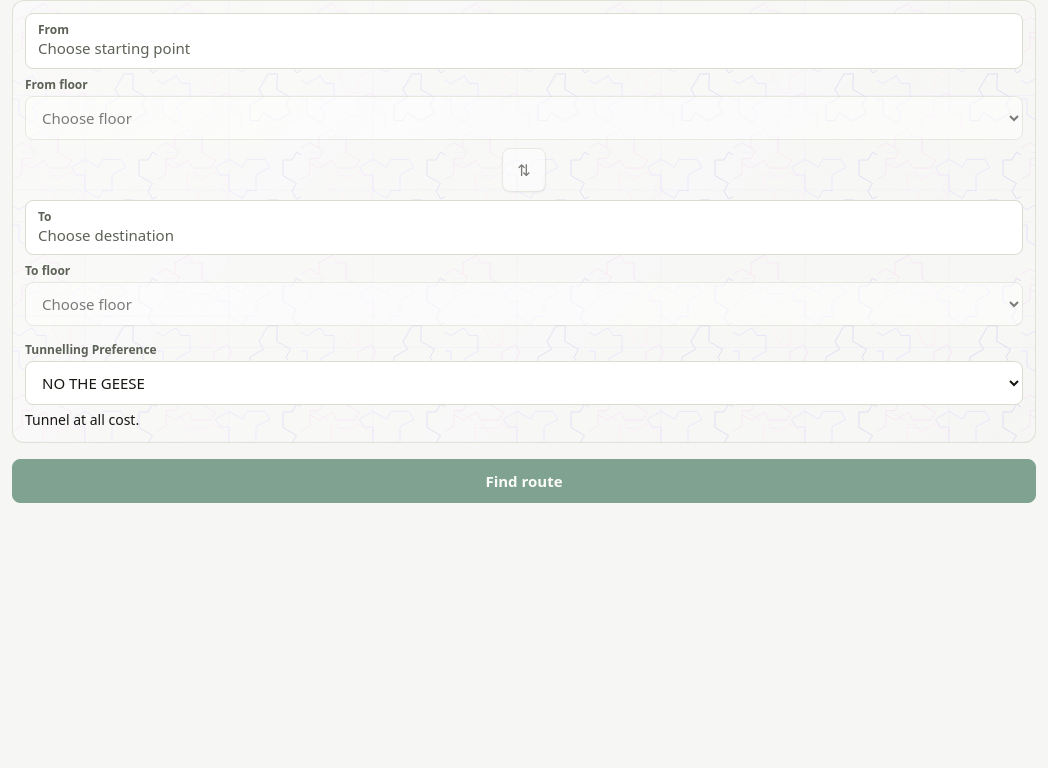
Scenario: RouteForm › shows a useful building list before the query is typed
The image size is (1048, 768).
Click the button named "fromchoose starting point" at [54, 30], box [25,13,1023,68]
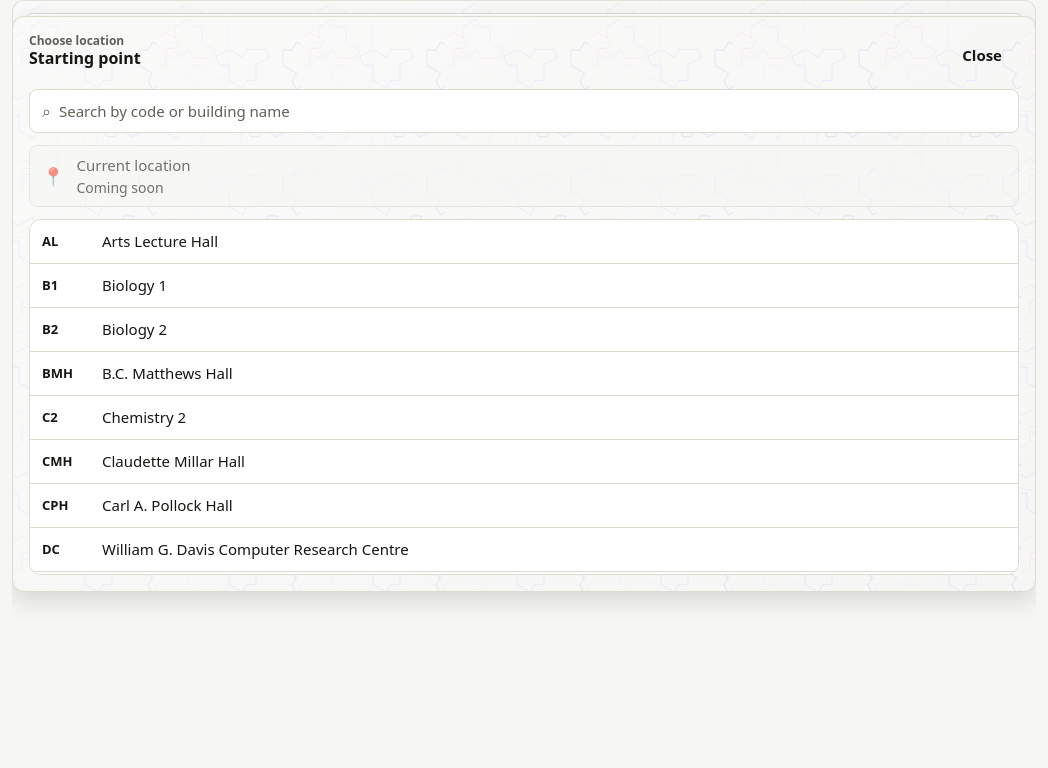
Check: the button named "dcwilliam g. davis" is shown, box [30,528,1018,572]
Check: the button named "current locationcoming soon" is disabled, box [29,145,1019,206]
